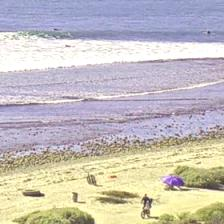surfer: (65, 45, 74, 48), (54, 28, 61, 31), (207, 31, 211, 35)
